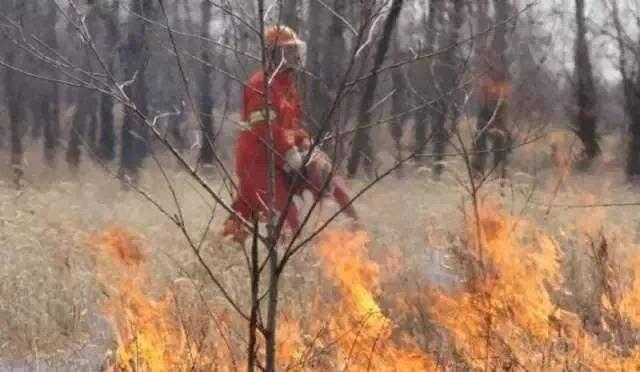fire: (76, 136, 633, 367)
